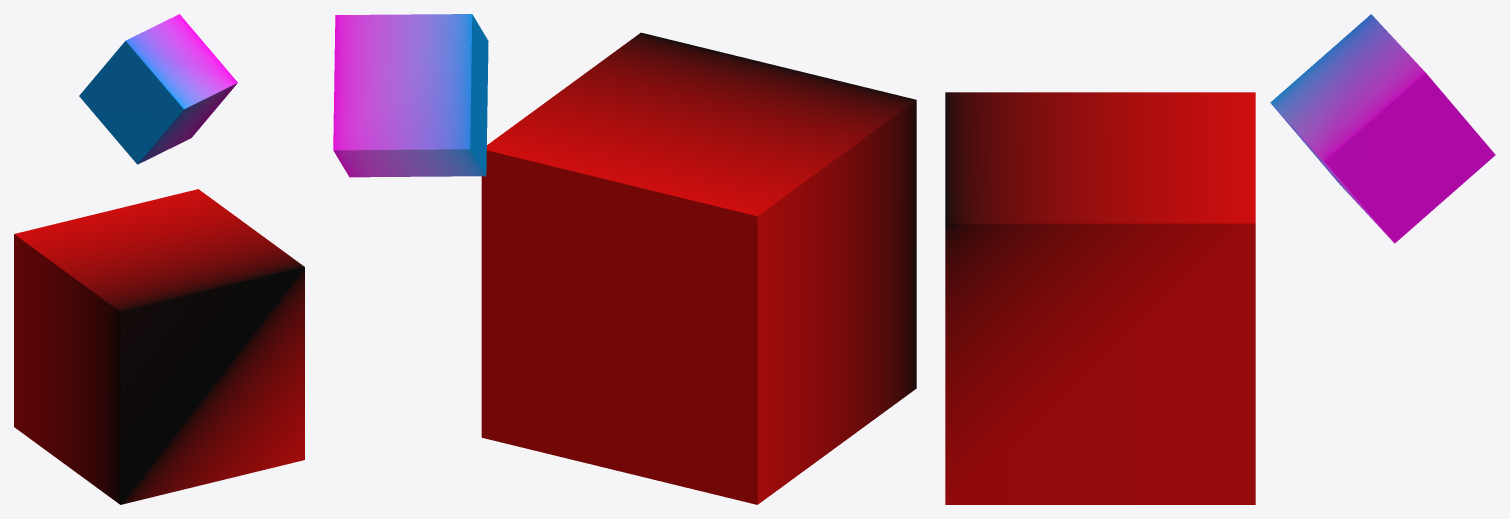
The picture shows the model from 3 angles, left to right: view 1: azimuth 30°, elevation 25°; view 2: azimuth 150°, elevation 25°; view 3: azimuth 270°, elevation 25°; orthographic projection. The views are drawn at different scales.
Visible parts, largest first — view 1: Cube, Cube_001; view 2: Cube, Cube_001; view 3: Cube, Cube_001.
Boxes of the visible parts, x1=… form: Cube: x1=14, y1=189, x2=304, y2=504; Cube_001: x1=79, y1=14, x2=237, y2=164; Cube: x1=481, y1=32, x2=916, y2=504; Cube_001: x1=333, y1=14, x2=488, y2=177; Cube: x1=945, y1=92, x2=1255, y2=504; Cube_001: x1=1270, y1=14, x2=1495, y2=243.
Size of the model in its own units: 2.69 by 3.55 by 3.32.
